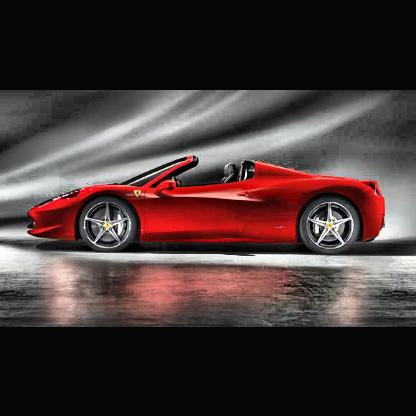Ferrari 458 Italia Convertible 2012: (29, 157, 388, 254)
